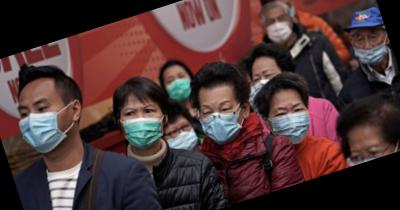mask_weared_incorrect: (350, 24, 394, 70)
with_mask: (12, 88, 83, 159), (116, 96, 173, 155), (195, 91, 252, 149), (264, 97, 318, 151), (162, 116, 202, 157), (161, 66, 199, 104), (260, 10, 298, 47)
